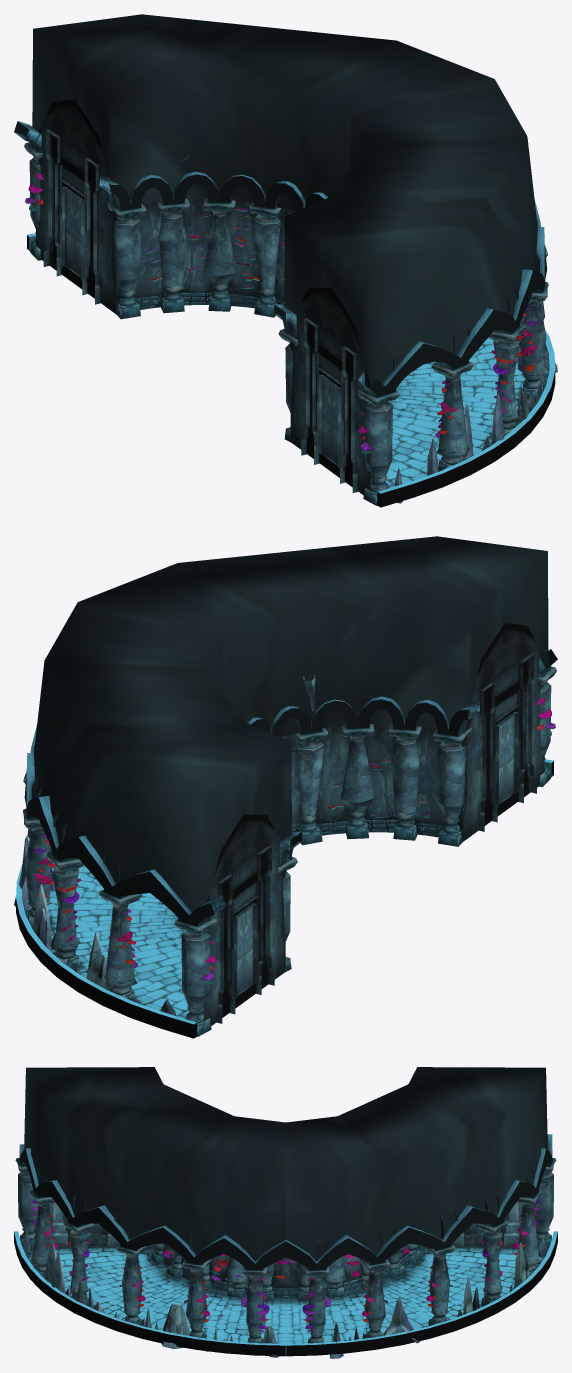
The model's file is BG_Hall_Stage_Water_141110.fbx.
The picture shows the model from 3 angles, top to bottom: view 1: azimuth 30°, elevation 25°; view 2: azimuth 150°, elevation 25°; view 3: azimuth 270°, elevation 25°; orthographic projection. The views are drawn at different scales.
Visible parts, largest first — view 1: BG_Hall_Stage_Water_Dumy, BG_Hall_Stage_Water_Door, BG_Hall_Stage_Water_Columm, BG_Hall_Stage_Water_Wall, BG_Hall_Stage_Water_Floor, BG_Hall_Stage_Water_mushroom, BG_Hall_Stage_Water_stalactite02; view 2: BG_Hall_Stage_Water_Dumy, BG_Hall_Stage_Water_Door, BG_Hall_Stage_Water_Columm, BG_Hall_Stage_Water_Wall, BG_Hall_Stage_Water_Floor, BG_Hall_Stage_Water_stalactite02, BG_Hall_Stage_Water_mushroom; view 3: BG_Hall_Stage_Water_Dumy, BG_Hall_Stage_Water_Floor, BG_Hall_Stage_Water_Columm, BG_Hall_Stage_Water_Wall, BG_Hall_Stage_Water_stalactite02, BG_Hall_Stage_Water_mushroom, BG_Hall_Stage_Water_Door, BG_Hall_Stage_Water_Celling.
Part boxes in pixels (box(x1,y1,x2,y2)): BG_Hall_Stage_Water_Dumy: box(32, 14, 537, 393); BG_Hall_Stage_Water_Door: box(36, 99, 371, 495); BG_Hall_Stage_Water_Columm: box(24, 142, 548, 505); BG_Hall_Stage_Water_Wall: box(14, 121, 547, 397); BG_Hall_Stage_Water_Floor: box(27, 233, 555, 507); BG_Hall_Stage_Water_mushroom: box(25, 174, 538, 453); BG_Hall_Stage_Water_stalactite02: box(395, 335, 557, 503); BG_Hall_Stage_Water_Dumy: box(34, 536, 548, 922); BG_Hall_Stage_Water_Door: box(202, 623, 544, 1025); BG_Hall_Stage_Water_Columm: box(23, 666, 556, 1036); BG_Hall_Stage_Water_Wall: box(24, 649, 557, 926); BG_Hall_Stage_Water_Floor: box(16, 759, 553, 1038); BG_Hall_Stage_Water_stalactite02: box(14, 836, 176, 1016); BG_Hall_Stage_Water_mushroom: box(33, 698, 555, 983); BG_Hall_Stage_Water_Dumy: box(24, 1067, 547, 1261); BG_Hall_Stage_Water_Floor: box(14, 1231, 557, 1356); BG_Hall_Stage_Water_Columm: box(15, 1158, 556, 1343); BG_Hall_Stage_Water_Wall: box(19, 1134, 552, 1298); BG_Hall_Stage_Water_stalactite02: box(22, 1230, 548, 1358); BG_Hall_Stage_Water_mushroom: box(30, 1188, 541, 1331); BG_Hall_Stage_Water_Door: box(34, 1202, 537, 1247); BG_Hall_Stage_Water_Celling: box(25, 1143, 546, 1248).
Size of the model in its own units: 106 by 73.77 by 201.
